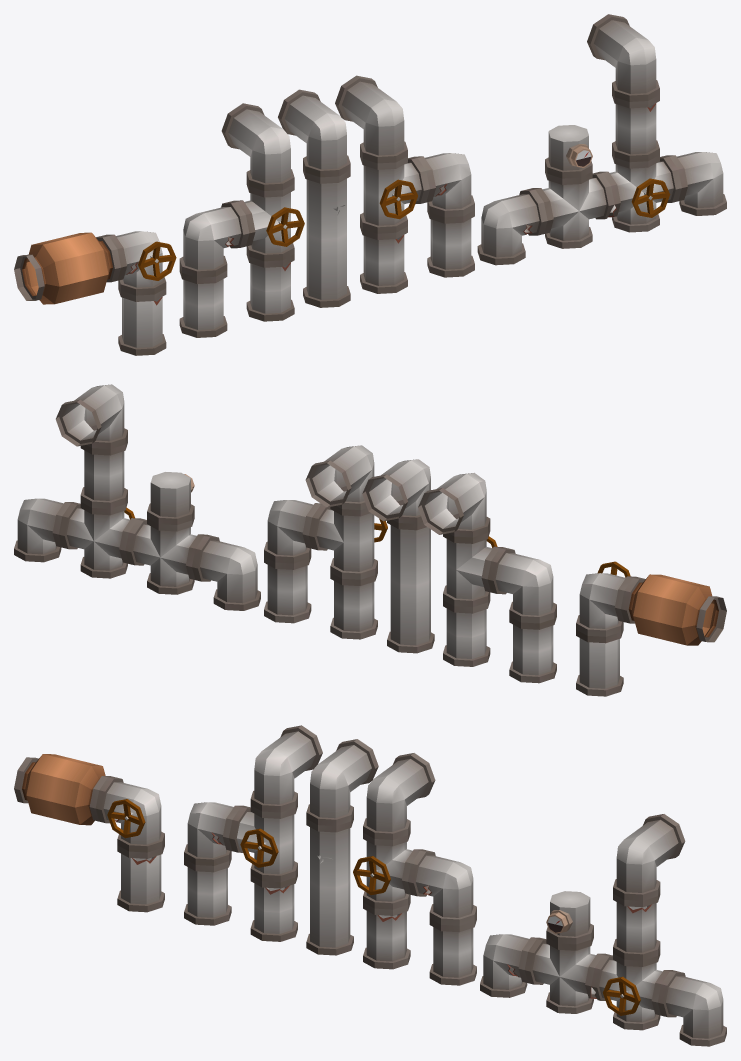
The model's file is tuberias_rotas.fbx.
3 views of the same model, one above another, from view 1: azimuth 30°, elevation 25°; view 2: azimuth 150°, elevation 25°; view 3: azimuth 330°, elevation 25° (orthographic).
Visible parts, largest first — view 1: Tuberia_Rota_medidor, Tuberia_Rota_Izq, Tuberia_Rota_Der, Tuberia_Rota_baja, Tuberia_Rota_Larga; view 2: Tuberia_Rota_medidor, Tuberia_Rota_Izq, Tuberia_Rota_Der, Tuberia_Rota_baja, Tuberia_Rota_Larga; view 3: Tuberia_Rota_medidor, Tuberia_Rota_Der, Tuberia_Rota_Izq, Tuberia_Rota_baja, Tuberia_Rota_Larga.
Boxes of the visible parts, box(x1,y1,x2,y2) form: Tuberia_Rota_medidor: box(477, 14, 726, 265); Tuberia_Rota_Izq: box(179, 103, 304, 337); Tuberia_Rota_Der: box(335, 75, 474, 293); Tuberia_Rota_baja: box(14, 231, 176, 355); Tuberia_Rota_Larga: box(278, 89, 350, 307); Tuberia_Rota_medidor: box(14, 384, 260, 610); Tuberia_Rota_Izq: box(418, 472, 556, 683); Tuberia_Rota_Der: box(264, 445, 387, 639); Tuberia_Rota_baja: box(576, 561, 726, 696); Tuberia_Rota_Larga: box(362, 459, 434, 653); Tuberia_Rota_medidor: box(480, 814, 726, 1046); Tuberia_Rota_Der: box(353, 753, 476, 985); Tuberia_Rota_Izq: box(184, 725, 322, 941); Tuberia_Rota_baja: box(14, 754, 164, 912); Tuberia_Rota_Larga: box(306, 739, 378, 955).
Size of the model in its own units: 2.85 by 0.7311 by 0.332.
